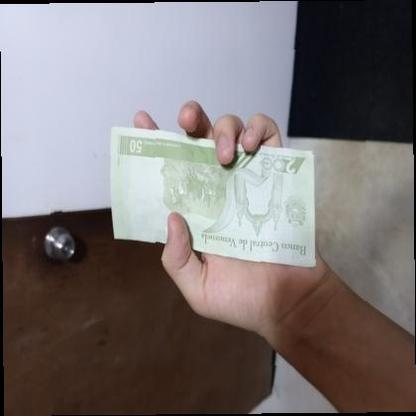fifty-back-vef: (110, 126, 316, 267)
